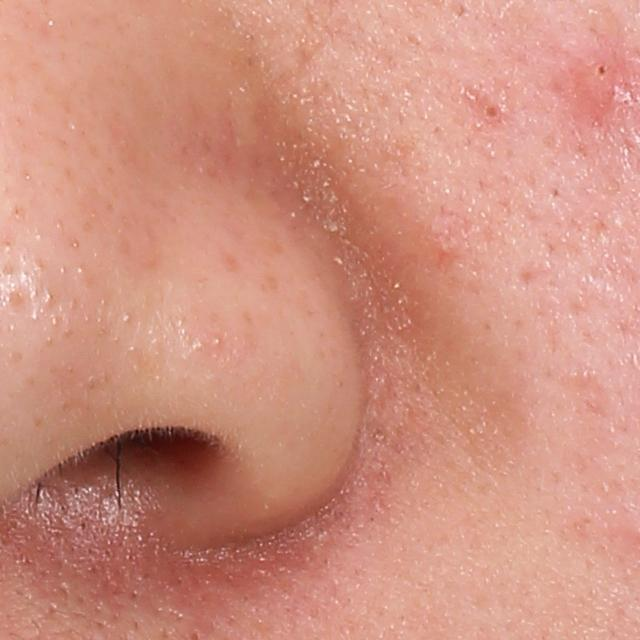comedo: (588, 54, 614, 84), (475, 100, 504, 125)
